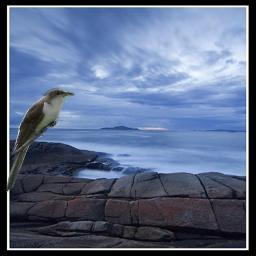Cuckoo: (3, 87, 75, 194)
